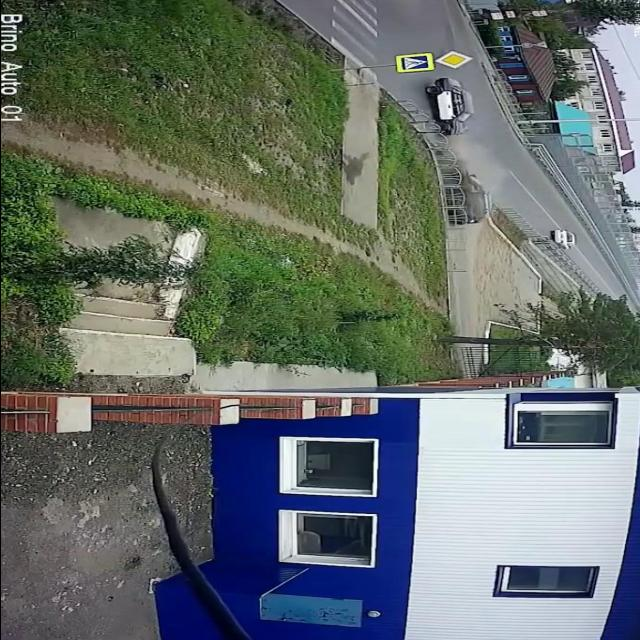accident: (420, 74, 495, 228)
